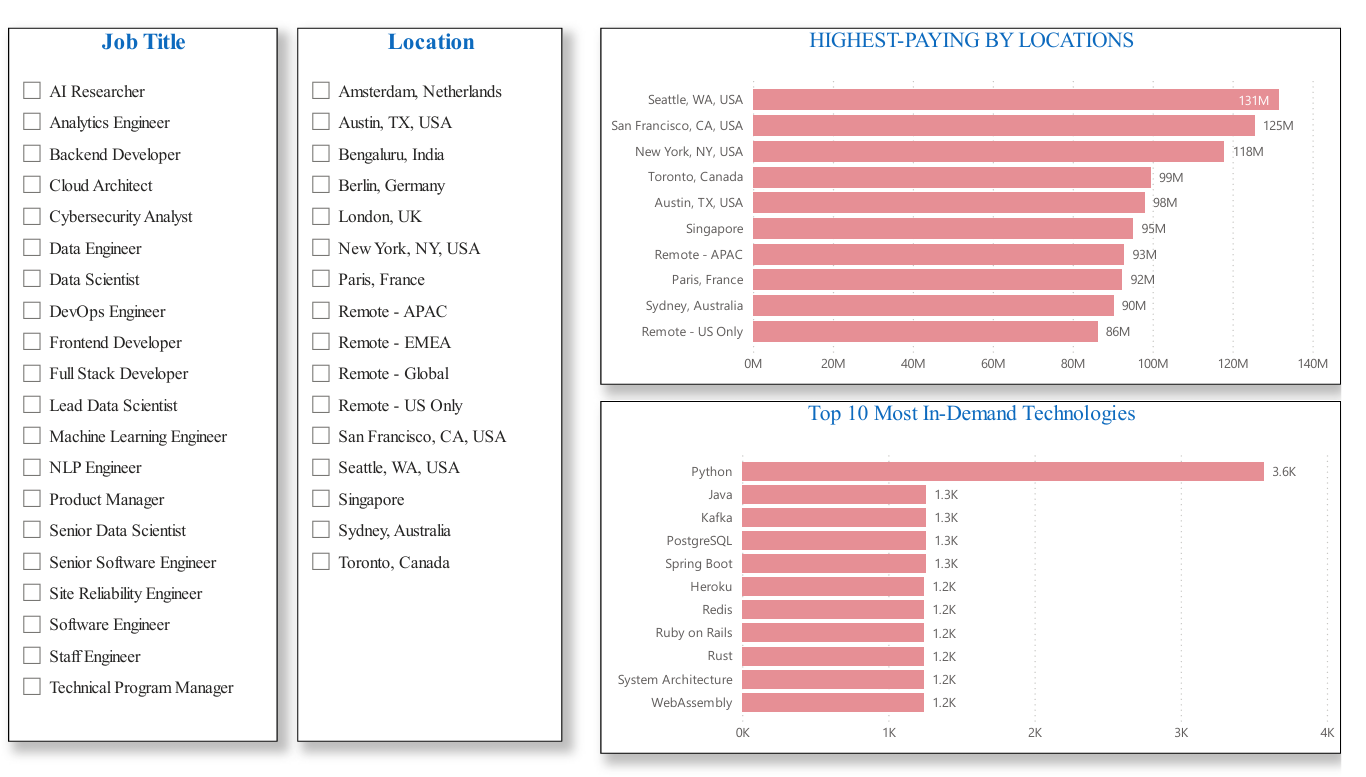

What the dashboard file says about the page in this screenshot:
{"tool":"powerbi","page":{"name":"LOCATION & SALARY ANALYSIS","canvas":[1280,720],"ordinal":1},"visuals":[{"type":"clusteredBarChart","title":"HIGHEST-PAYING BY LOCATIONS","fields":{"Category":["Global_Tech_Job_Market_2026.location"],"Y":["Sum(Global_Tech_Job_Market_2026.average_salary)"]},"box":[595.5,20.6,684.7,330.7],"z":0},{"type":"clusteredBarChart","title":"Top 10 Most In-Demand Technologies","fields":{"Category":["technology_analysis.technology"],"Y":["Sum(technology_analysis.job_count)"]},"box":[595.5,366.4,684.7,325.2],"z":1000},{"type":"slicer","title":"Job Title","fields":{"Values":["Global_Tech_Job_Market_2026.job_title"]},"box":[49.4,20.6,248.4,660],"z":2000},{"type":"actionButton","box":[0,0,100,40],"z":3000},{"type":"slicer","title":"Location","fields":{"Values":["Global_Tech_Job_Market_2026.location"]},"box":[315.6,20.6,245.6,660],"z":4000}]}

Visuals, with their boxes in screenshot pixels (x1, y1, x2, y2), scaled from the page's 1280x720 canvas onto the 1366x777 screenshot:
"HIGHEST-PAYING BY LOCATIONS" clusteredBarChart: {"x1": 636, "y1": 22, "x2": 1365, "y2": 379}
"Top 10 Most In-Demand Technologies" clusteredBarChart: {"x1": 636, "y1": 395, "x2": 1365, "y2": 746}
"Job Title" slicer: {"x1": 53, "y1": 22, "x2": 318, "y2": 734}
actionButton: {"x1": 0, "y1": 0, "x2": 107, "y2": 43}
"Location" slicer: {"x1": 337, "y1": 22, "x2": 599, "y2": 734}
